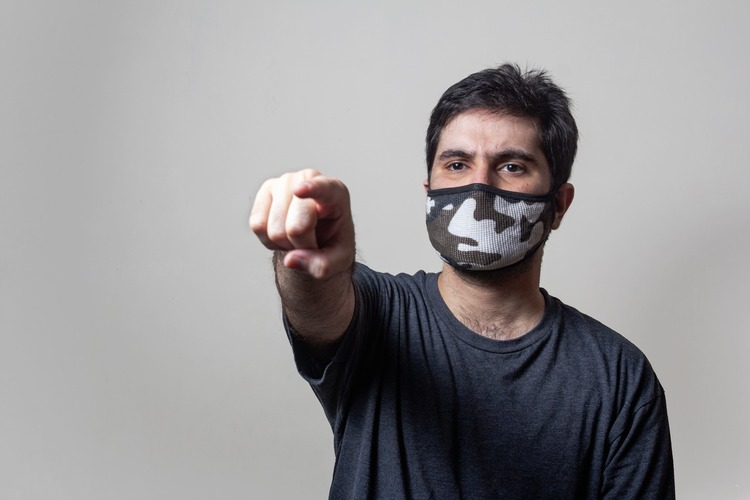with_mask: (429, 134, 554, 270)
